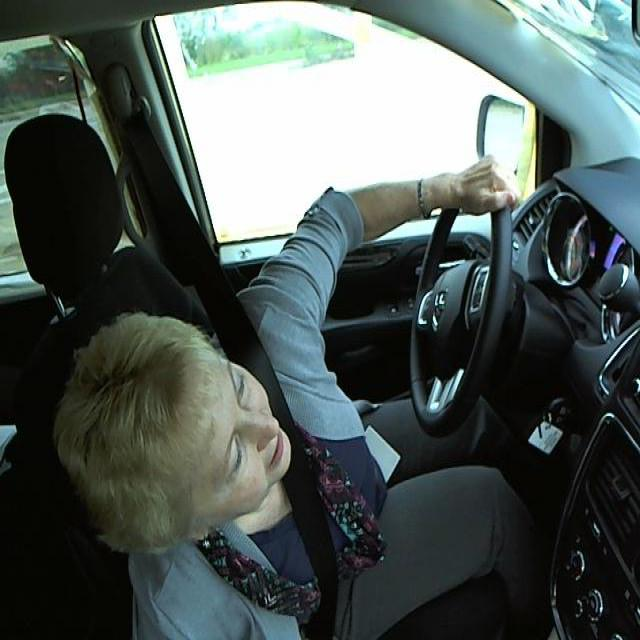seatbelt: (231, 334, 353, 638)
